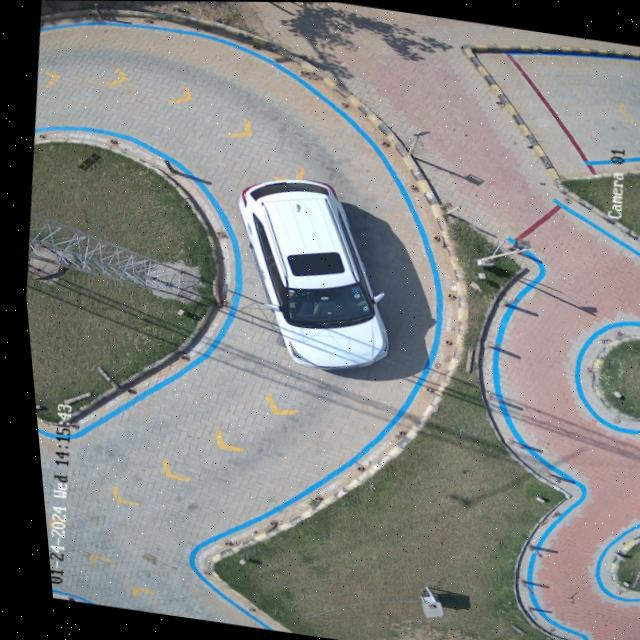car: (235, 178, 381, 369)
